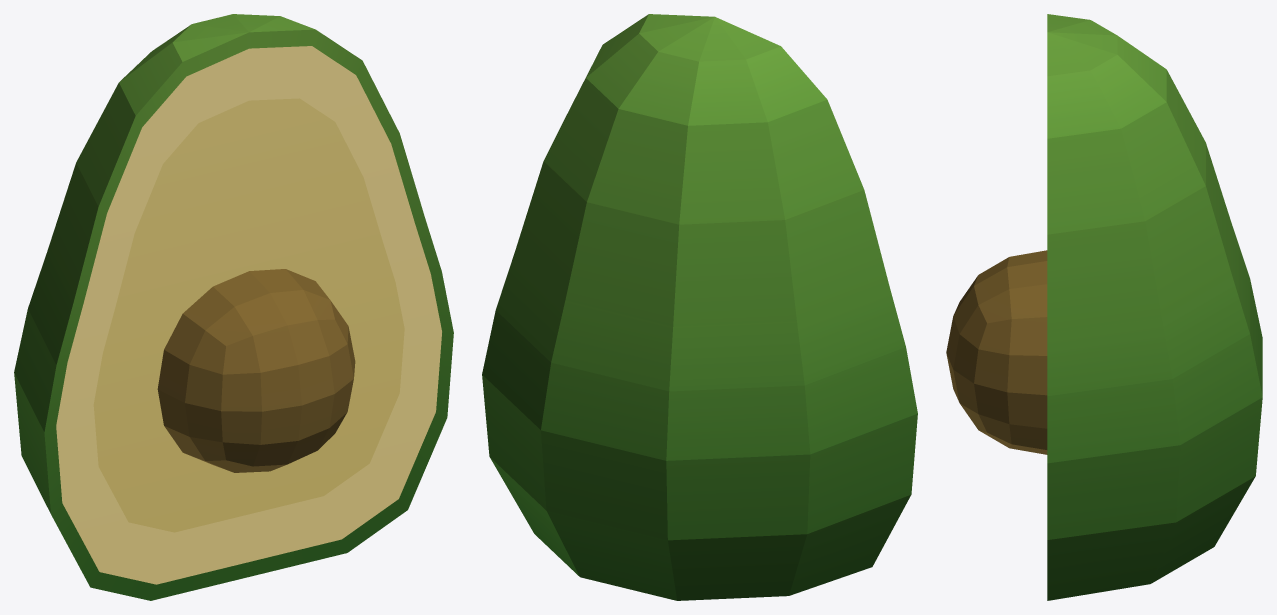
The model's file is avocado_2.glb.
3 renders of one model, left to right at view 1: azimuth 30°, elevation 25°; view 2: azimuth 150°, elevation 25°; view 3: azimuth 270°, elevation 25°, orthographic. The views are drawn at different scales.
Visible parts, largest first — view 1: avocado_2; view 2: avocado_2; view 3: avocado_2.
Boxes of the visible parts, x1=… form: avocado_2: x1=14, y1=14, x2=453, y2=600; avocado_2: x1=482, y1=14, x2=917, y2=600; avocado_2: x1=946, y1=14, x2=1262, y2=600.
Bounding box in the file's own units: 0.0571 × 0.0725 × 0.0399.
Materials: 1 (1 with a texture image).
